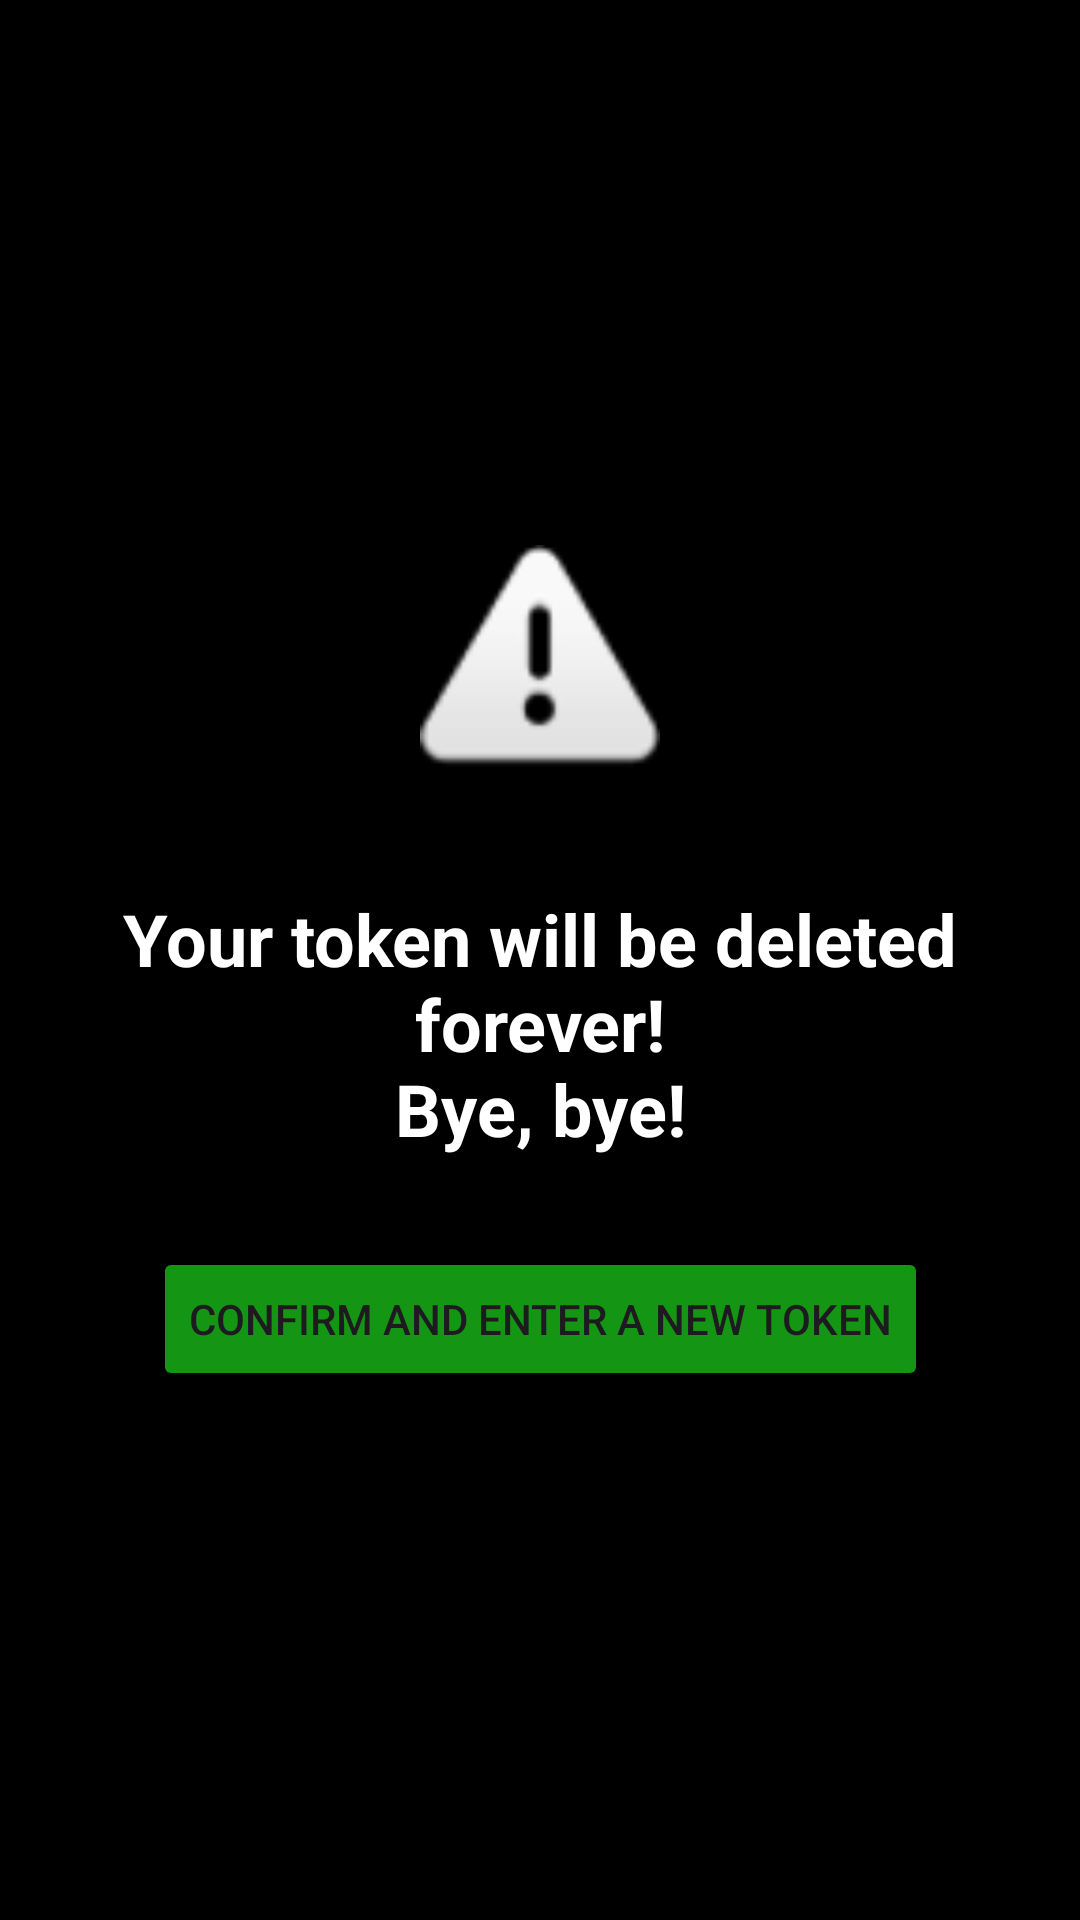

Screen size 1080*1920. Icon name, then its center in pixels as (x=x, y=y):
alert: (x=540, y=654)
